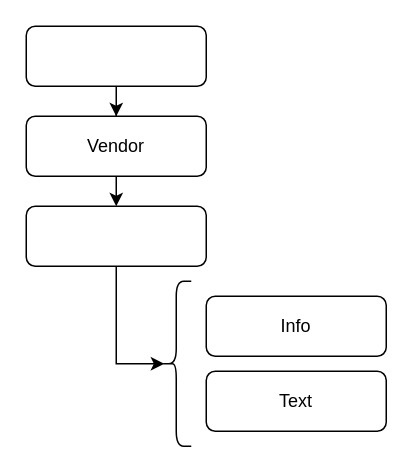
The diagram is 413 pixels wide and 473 high, and some of its shapes have lost their labels. Each missing label, with the box of its shape:
Device: (25, 205, 206, 266)
Devices: (25, 25, 206, 86)
